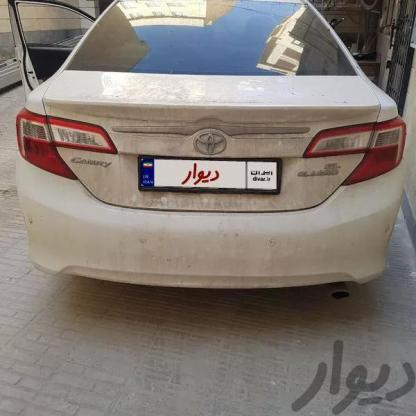Car: (0, 0, 413, 309)
